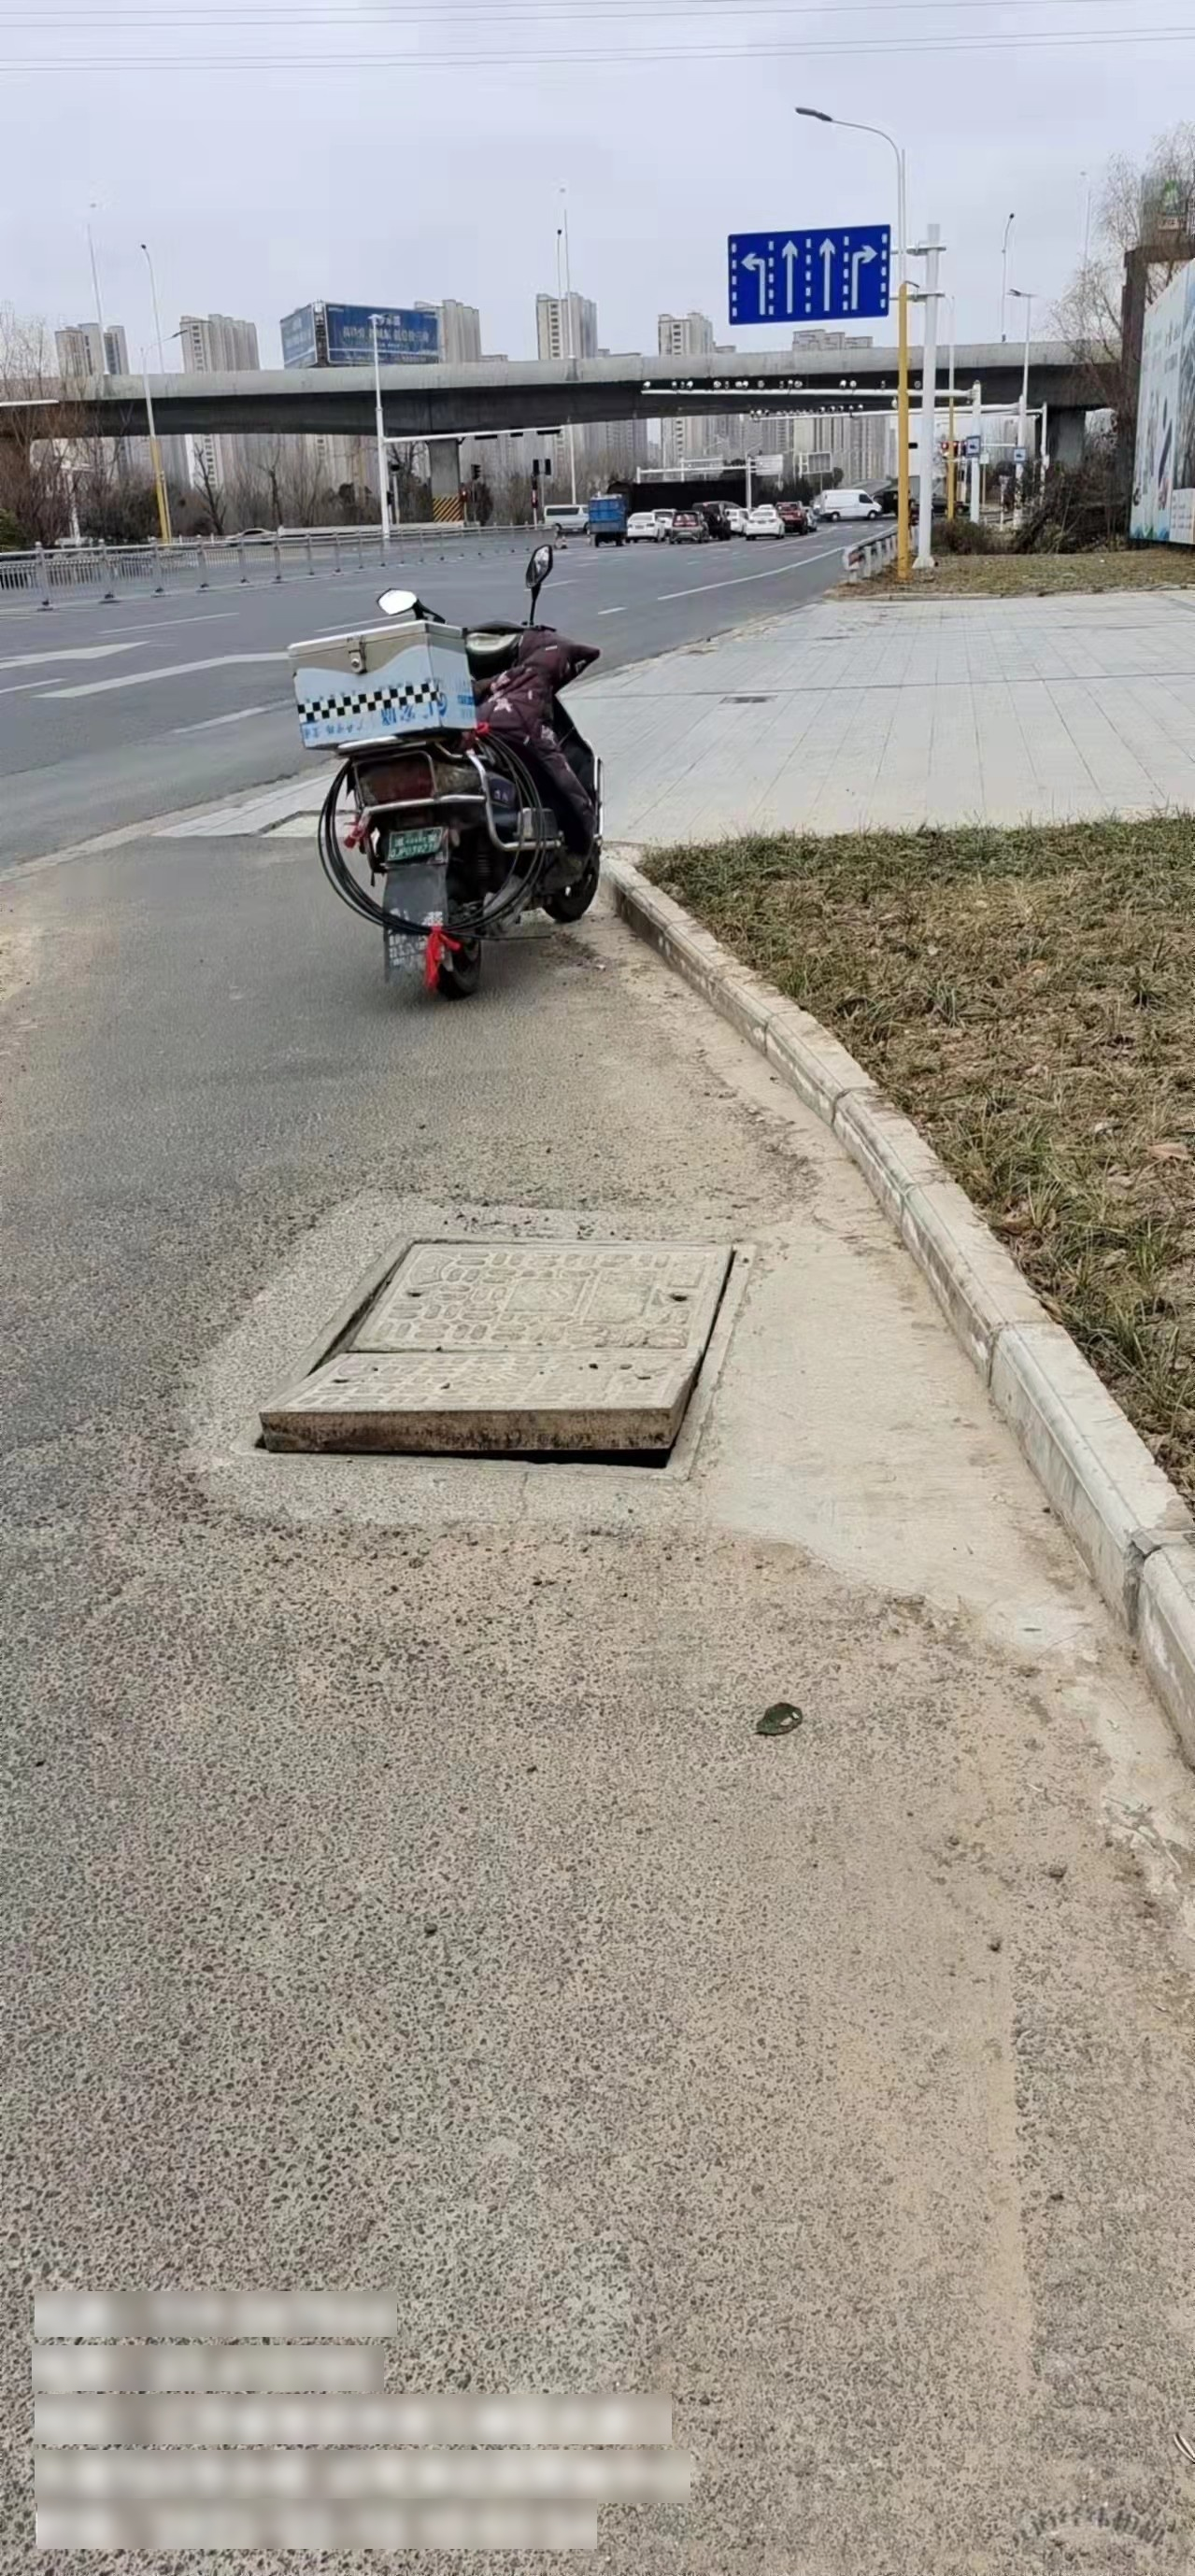uncovered: (253, 1229, 748, 1487)
